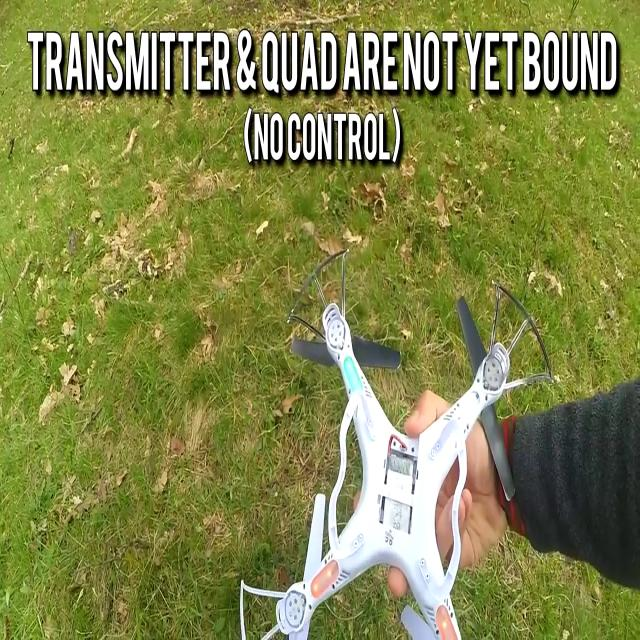drones: (229, 240, 558, 640)
